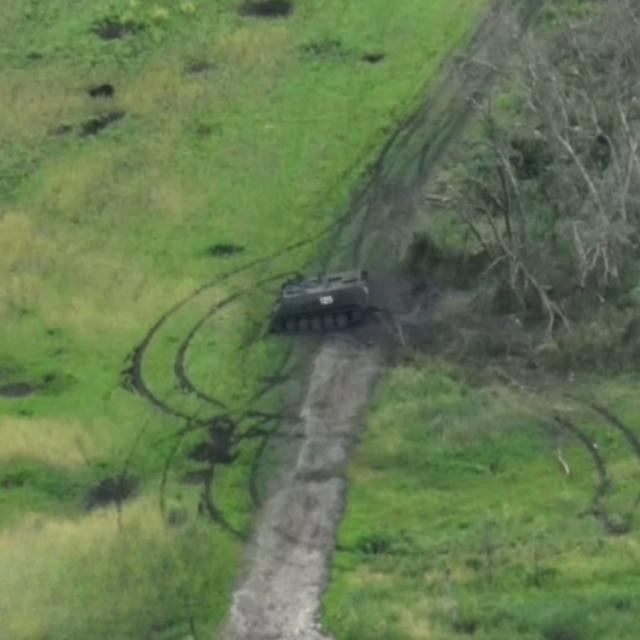APC: (270, 267, 375, 339)
